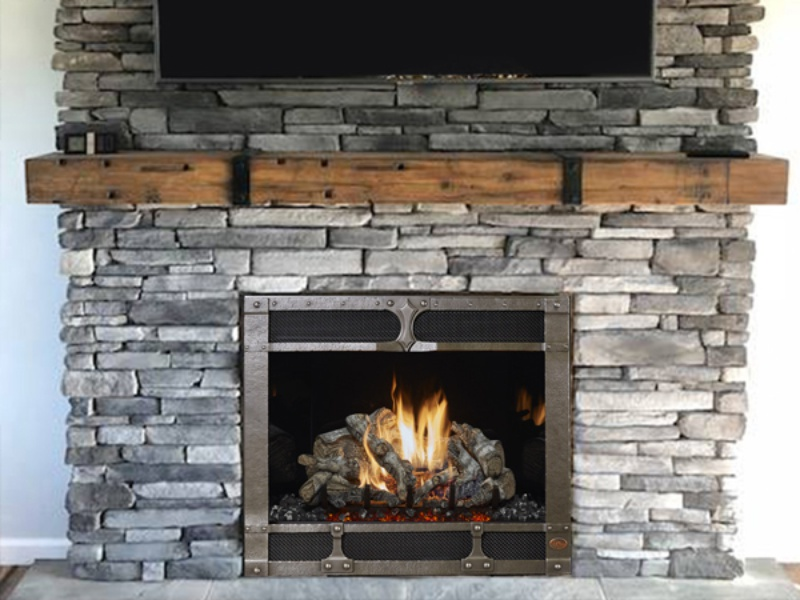fire: (395, 383, 450, 472), (354, 446, 391, 491)
